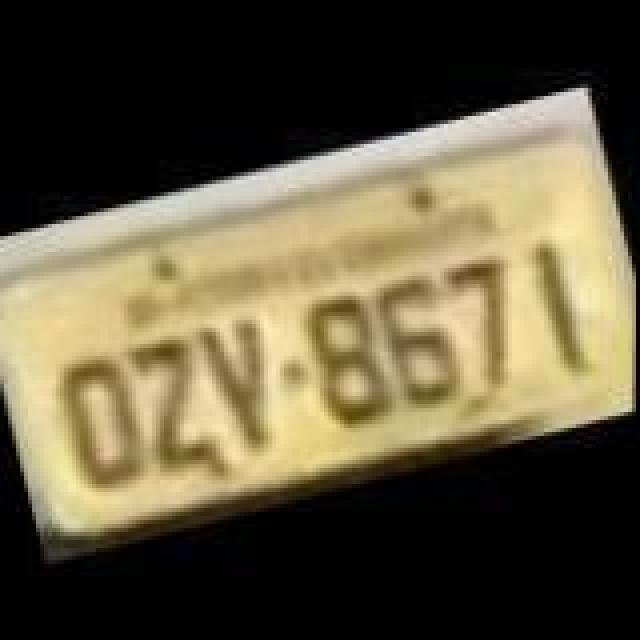1: (518, 228, 594, 372)
6: (372, 266, 468, 410)
7: (436, 248, 532, 396)
8: (300, 288, 396, 428)
O: (50, 344, 158, 488)
V: (192, 310, 288, 454)
Z: (122, 330, 222, 474)
